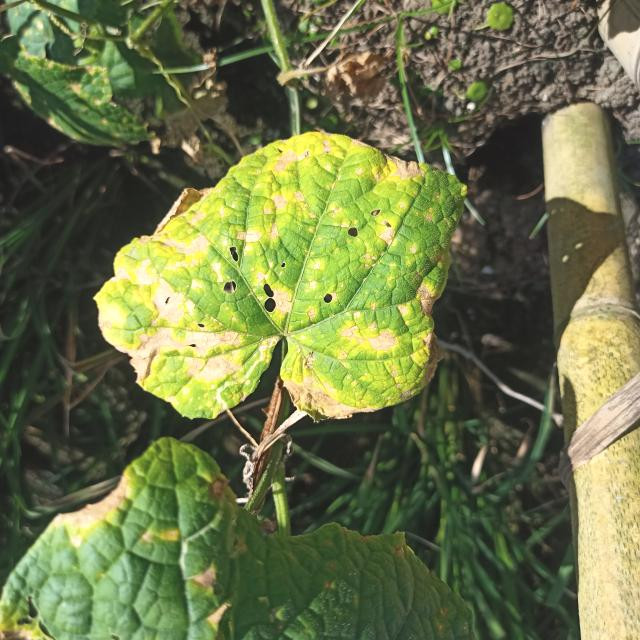disease_cucumber: (96, 143, 468, 419)
